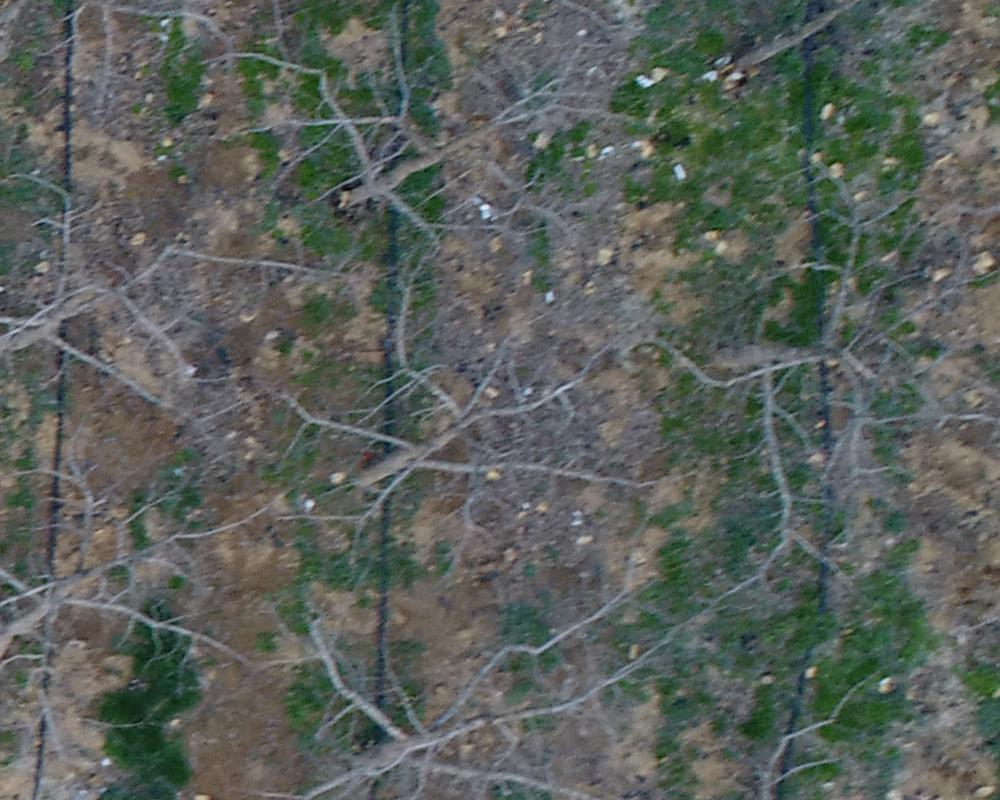apple: (275, 276, 675, 589), (639, 210, 990, 543), (230, 10, 657, 269), (238, 582, 682, 790), (10, 432, 263, 790), (10, 153, 334, 428), (675, 10, 968, 144)
